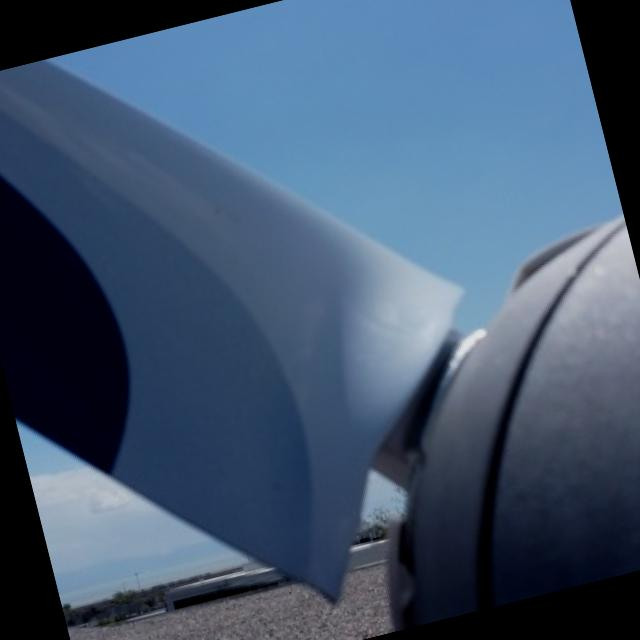healthy: (0, 0, 640, 628)
